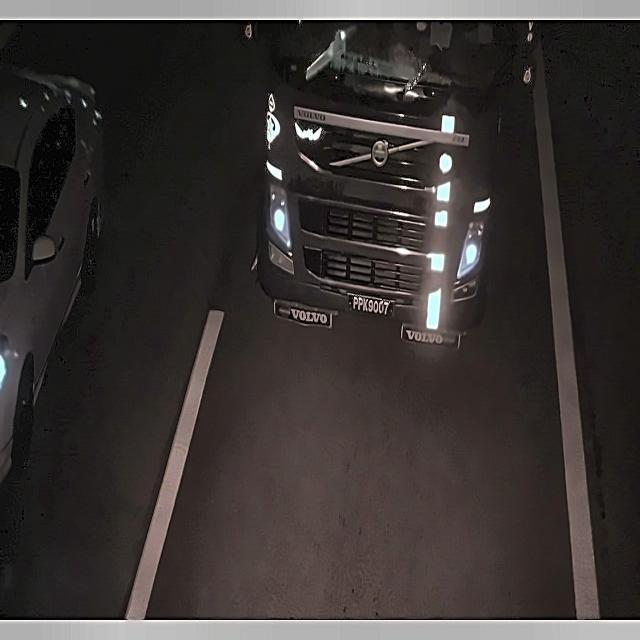car: (344, 289, 398, 322)
